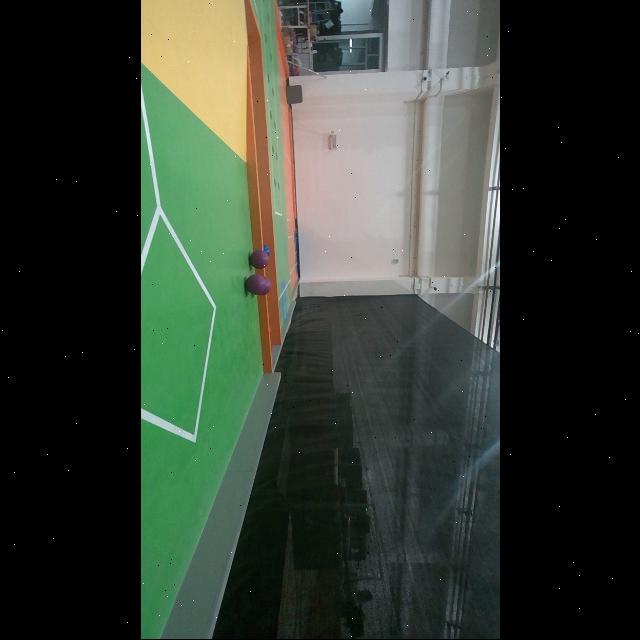P: (245, 275, 265, 295), (250, 250, 268, 270)
